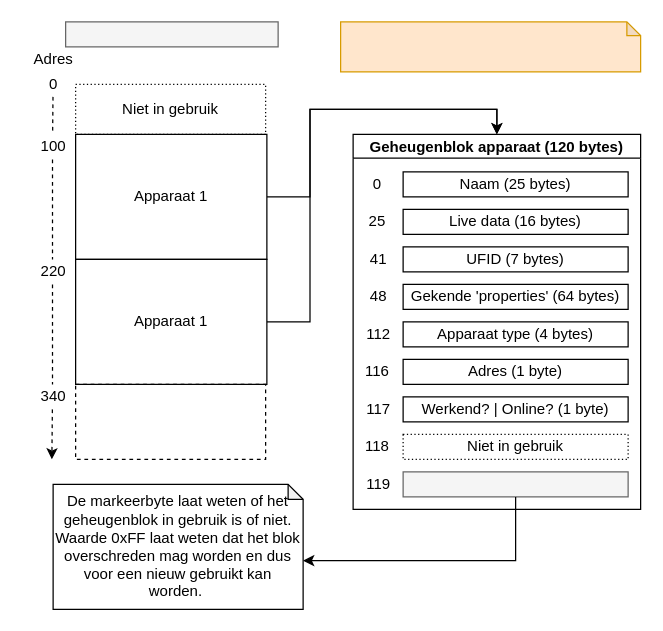
Image size: 663x631. Some labels were removed from this diagram. Each missing label, with the centre of its shape:
"Apparaat = opgeslagen slave in de master." goes at point 490,46.
"Markeerbyte" goes at point 515,484.
"Master EEPROM indeling" goes at point 171,34.
"Nieuw geregistreerde apparaten komen hieronder" goes at point 170,421.
